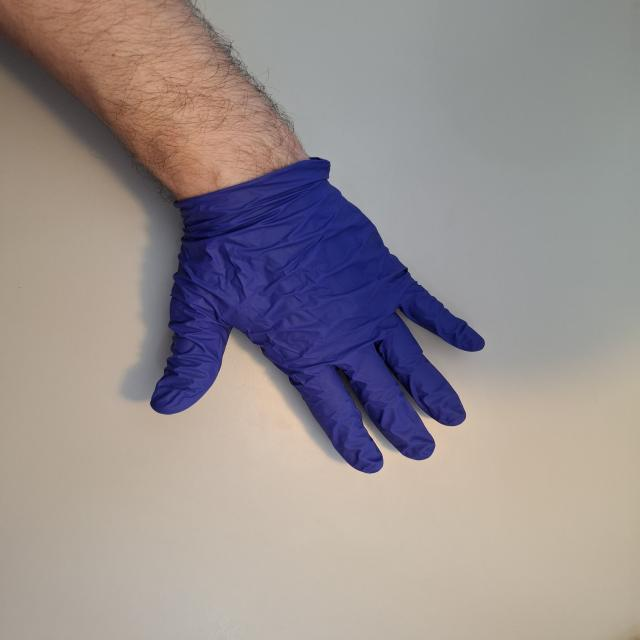glove_on: (145, 152, 488, 478)
